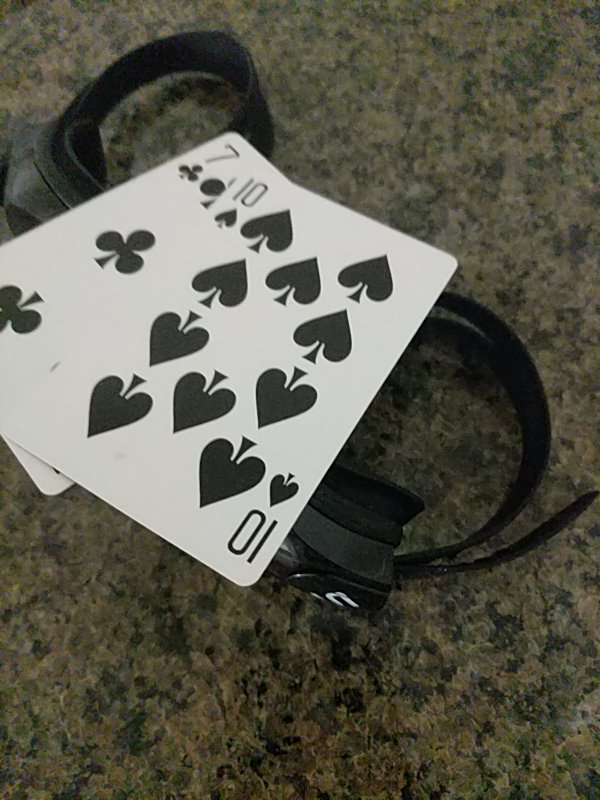Clubs: (1, 131, 292, 499)
Spades: (1, 167, 462, 587)
